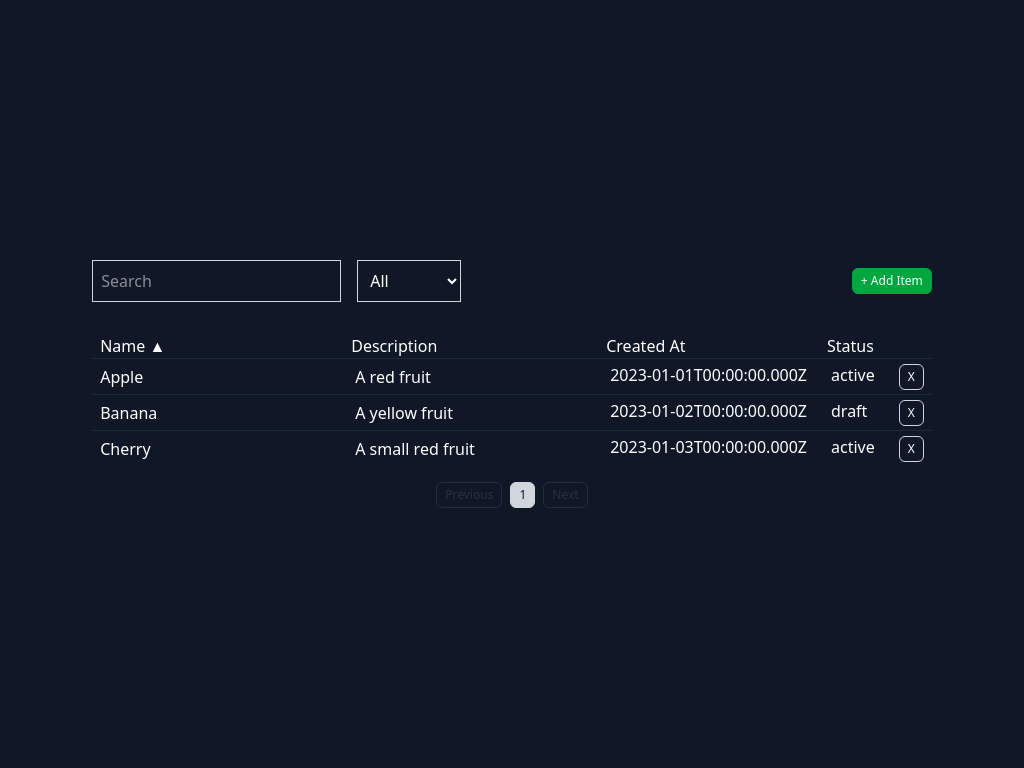
Test case: Integration Tests - Full Flow with MSW › should handle optimistic item deletion
Check: the 1st field showing "Apple" is shown, box [92,363,339,390]
# Click delete button
Click the button "X" in the row of "2023-01-01T00:00:00.000Z" at [911, 377], box [899,364,924,390]
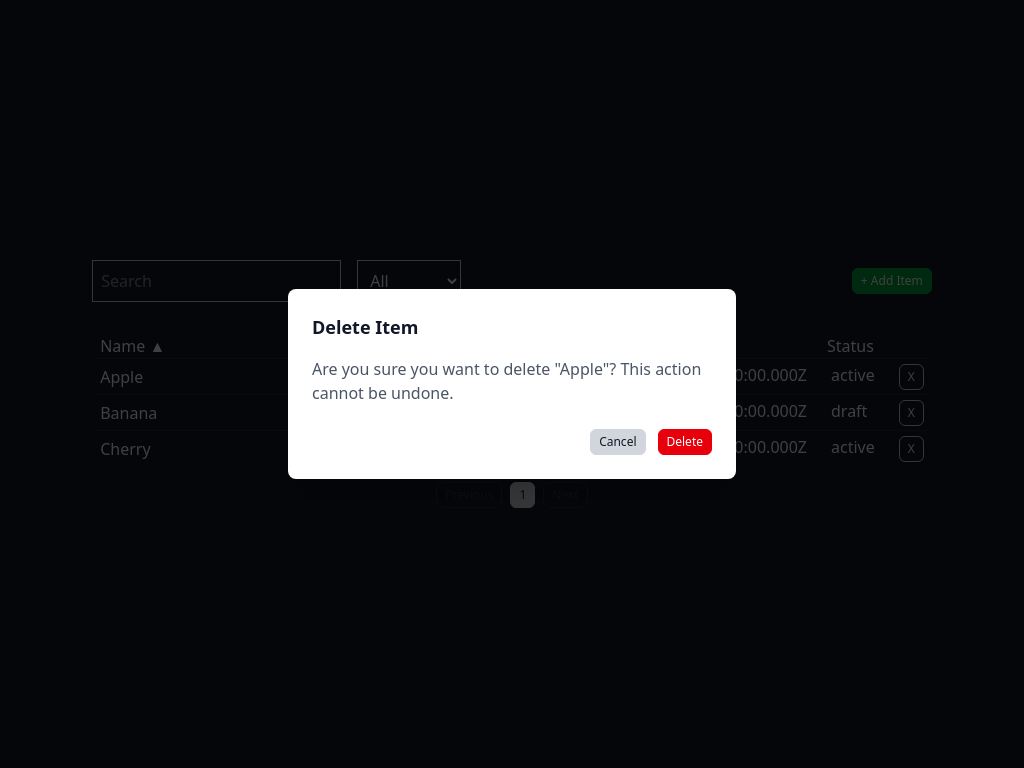
# Confirm deletion
Click the button "Delete" at [685, 442], box [658,429,712,455]
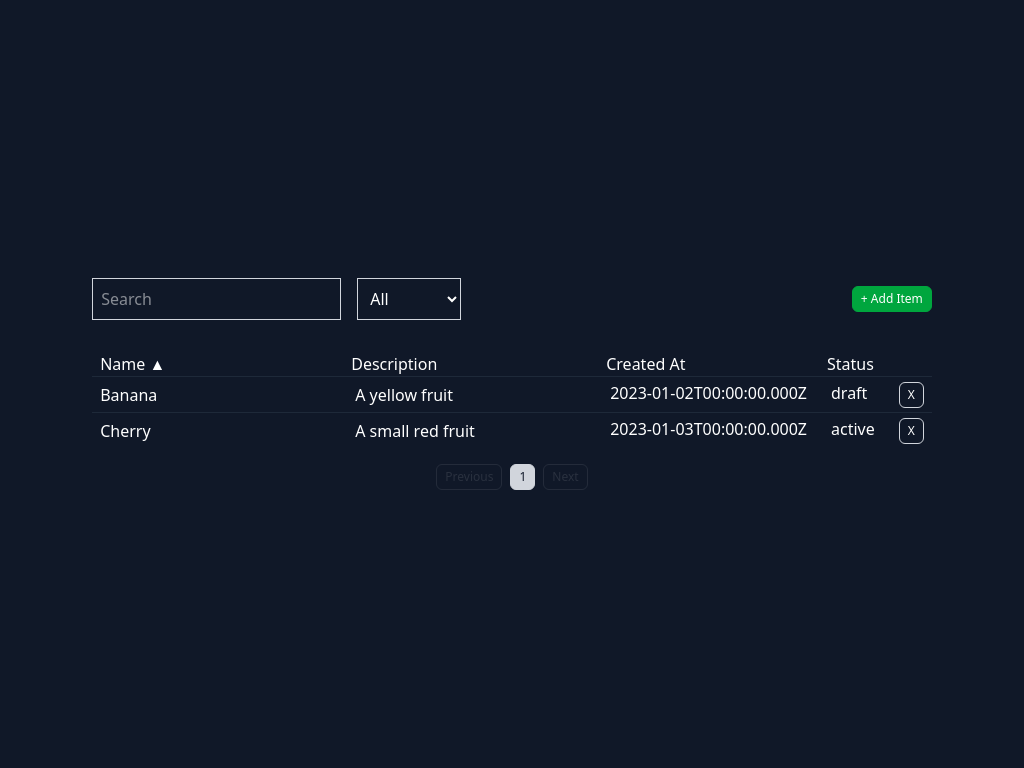
Check: the text "Apple" is gone
